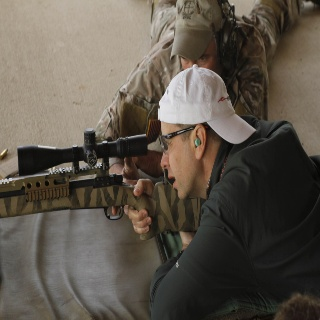rifle: (1, 127, 204, 240)
